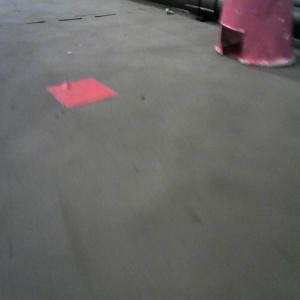Right: (213, 1, 298, 65)
